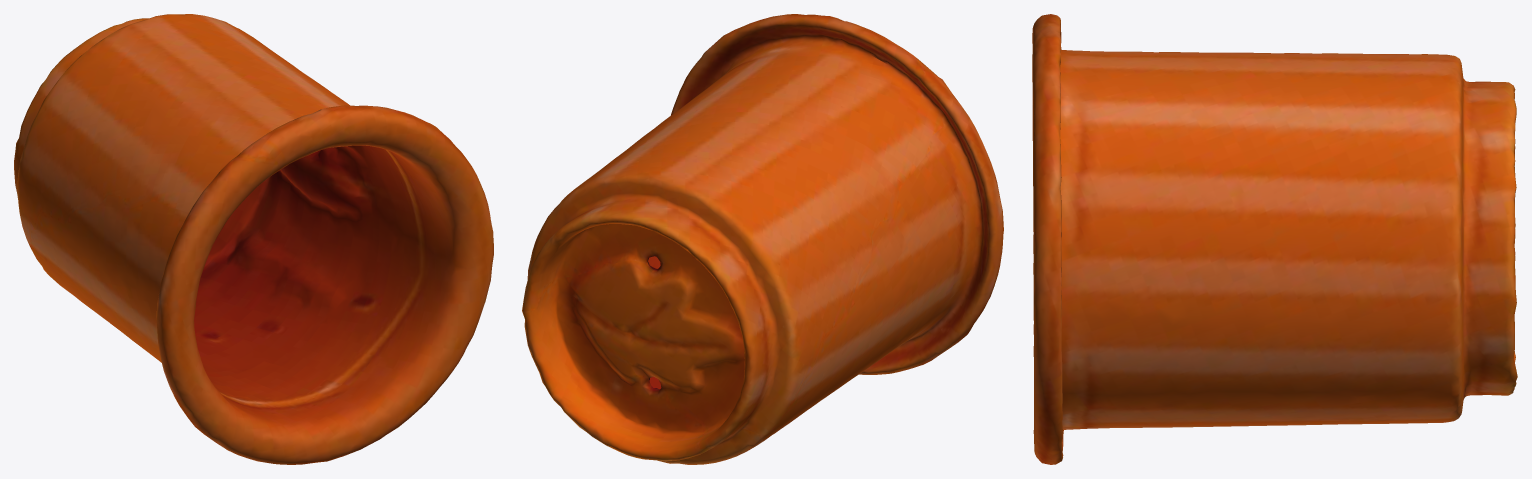
The model's file is ddg-ycb_065-a_cups.glb.
3 renders of one model, left to right at view 1: azimuth 30°, elevation 25°; view 2: azimuth 150°, elevation 25°; view 3: azimuth 270°, elevation 25°, orthographic. The views are drawn at different scales.
Parts seen in each view (by area): view 1: textured(Clone); view 2: textured(Clone); view 3: textured(Clone).
Boxes of the visible parts, x1,y1,x2,y2 form: textured(Clone): (14,14,493,464); textured(Clone): (522,14,1003,464); textured(Clone): (1032,14,1517,464).
Size of the model in its own units: 1.38 by 1.39 by 1.49.
Materials: 1 (1 with a texture image).
